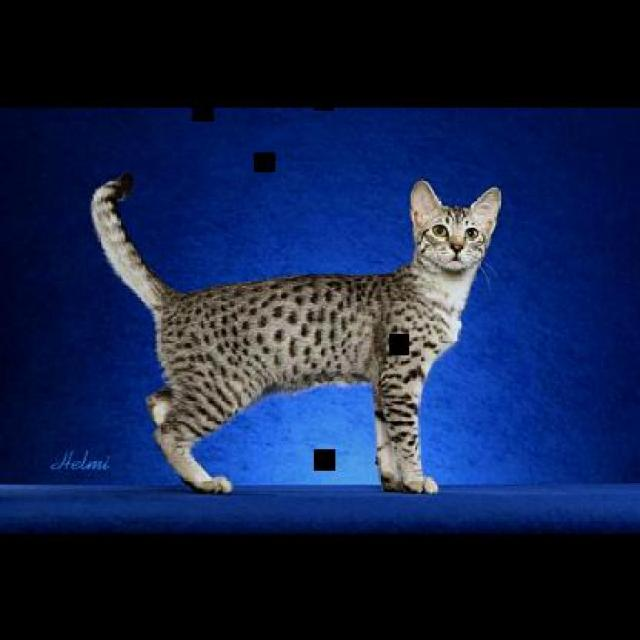unauthorized: (88, 171, 502, 495)
